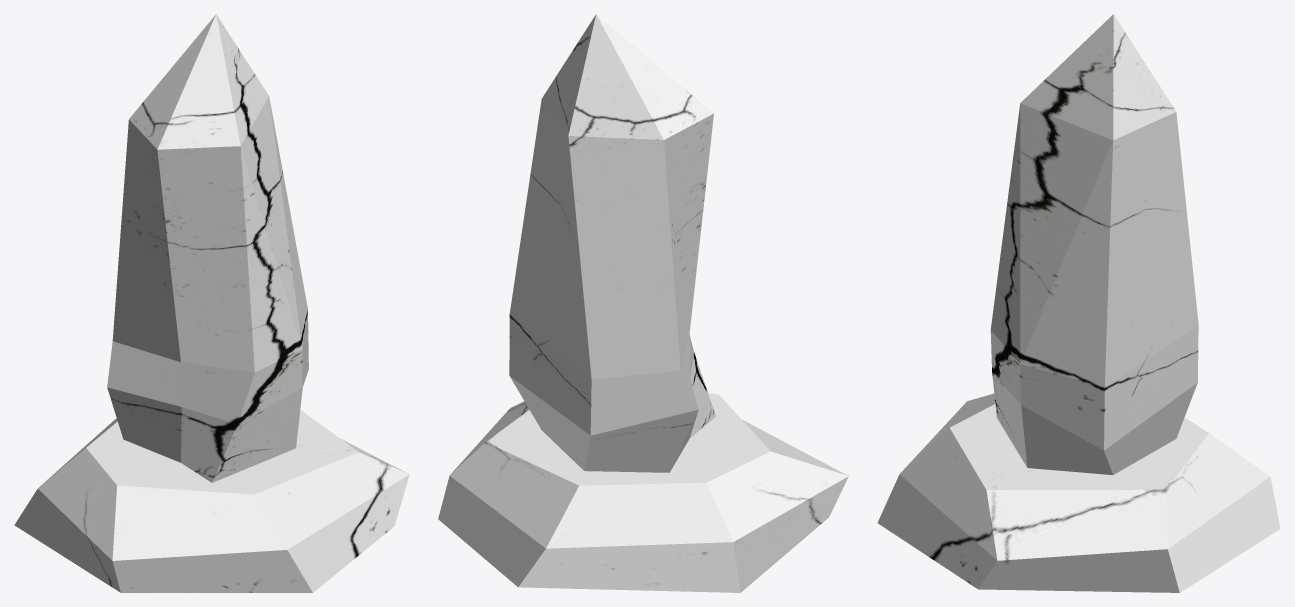
The model's file is PowerKristall.fbx.
3 renders of one model, left to right at view 1: azimuth 30°, elevation 25°; view 2: azimuth 150°, elevation 25°; view 3: azimuth 270°, elevation 25°, orthographic. The views are drawn at different scales.
Visible parts, largest first — view 1: PowerKristall; view 2: PowerKristall; view 3: PowerKristall.
Boxes of the visible parts, bbox=[...] form: PowerKristall: bbox=[14, 14, 409, 592]; PowerKristall: bbox=[438, 14, 848, 592]; PowerKristall: bbox=[877, 14, 1280, 592].
Bounding box in the file's own units: 0.4677 × 0.7067 × 0.4993.
